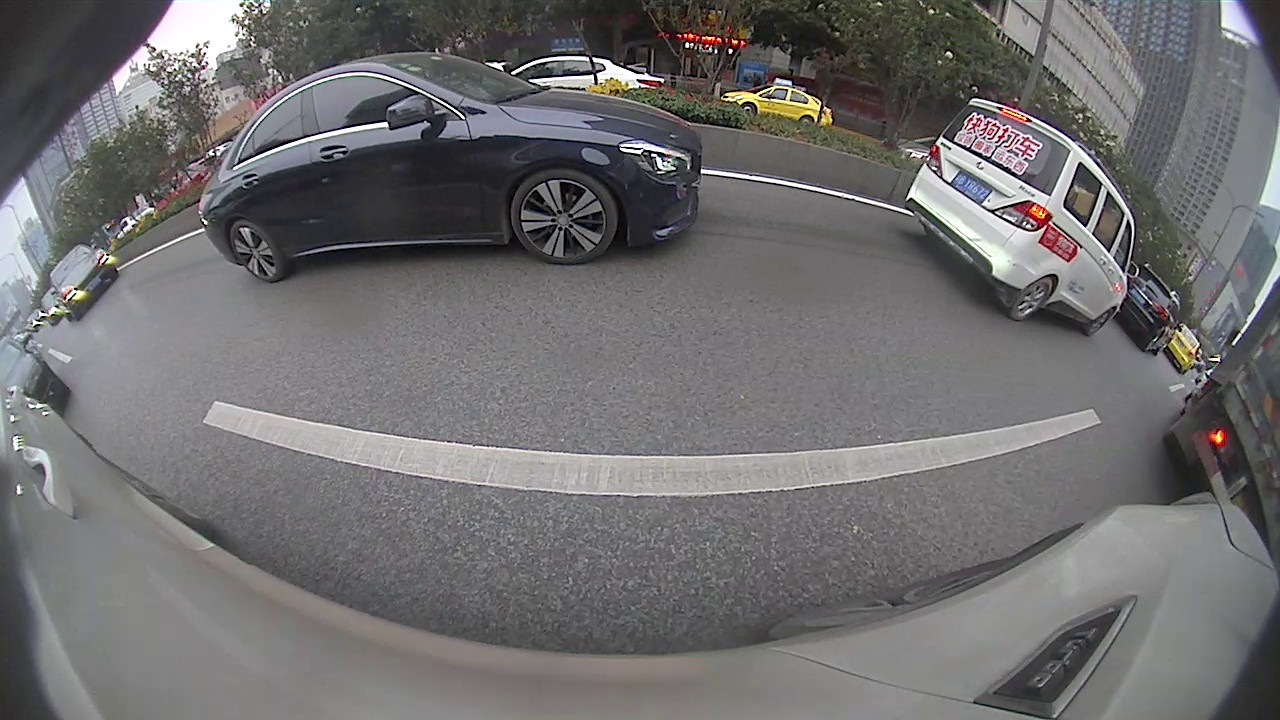car: (197, 51, 706, 283), (903, 95, 1139, 336), (1105, 266, 1173, 354), (46, 243, 120, 322), (1164, 323, 1201, 375)
front: (511, 174, 615, 266), (1087, 307, 1115, 338)
rear: (225, 220, 282, 283), (1010, 277, 1055, 320)
